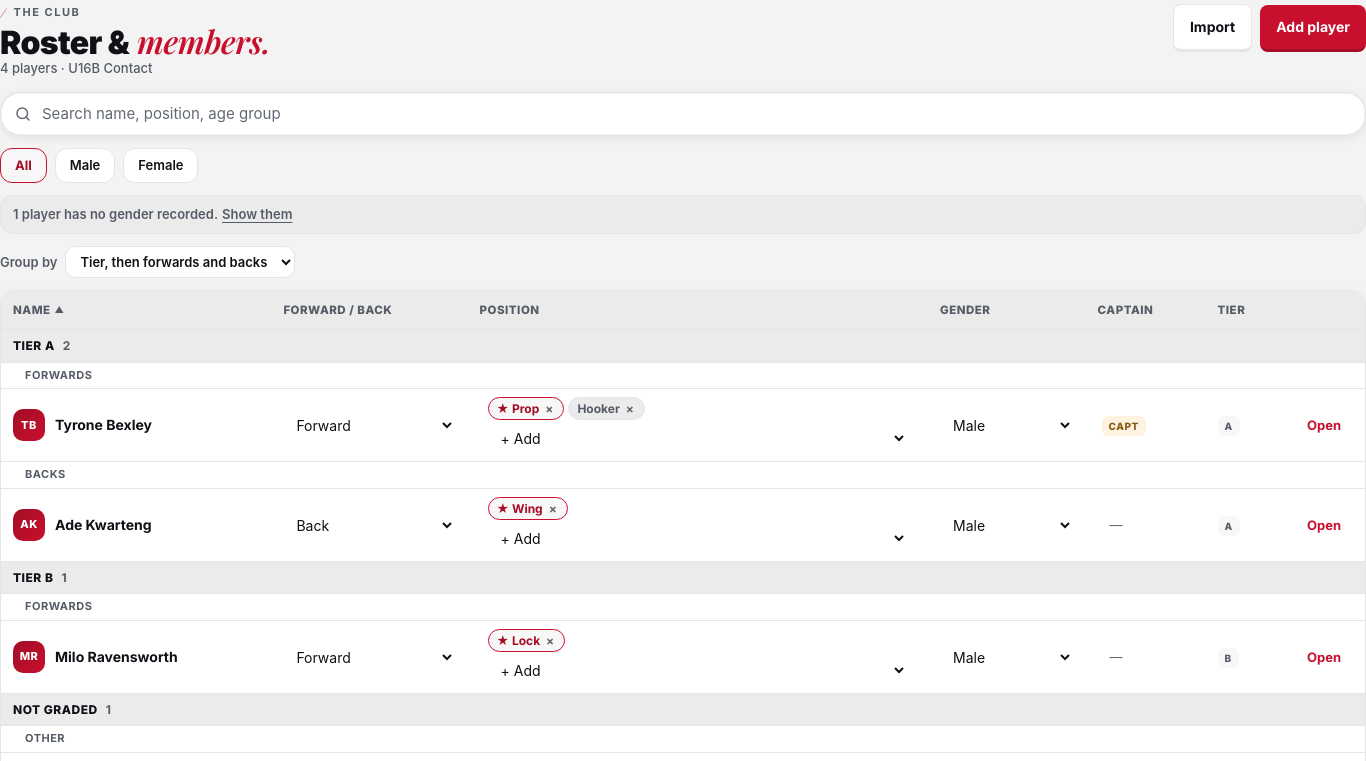
Test case: the gender gap nudges, and the nudge is clickable › ⚠️ CLICKING IT SHOWS EXACTLY THOSE PLAYERS — Jay’s explicit ask
What coordinates should you click on to do the following:
click the button "1 player has no gender recorded.Show them"
I would click on:
 (116, 214)
Its box is [0,195,1365,234].
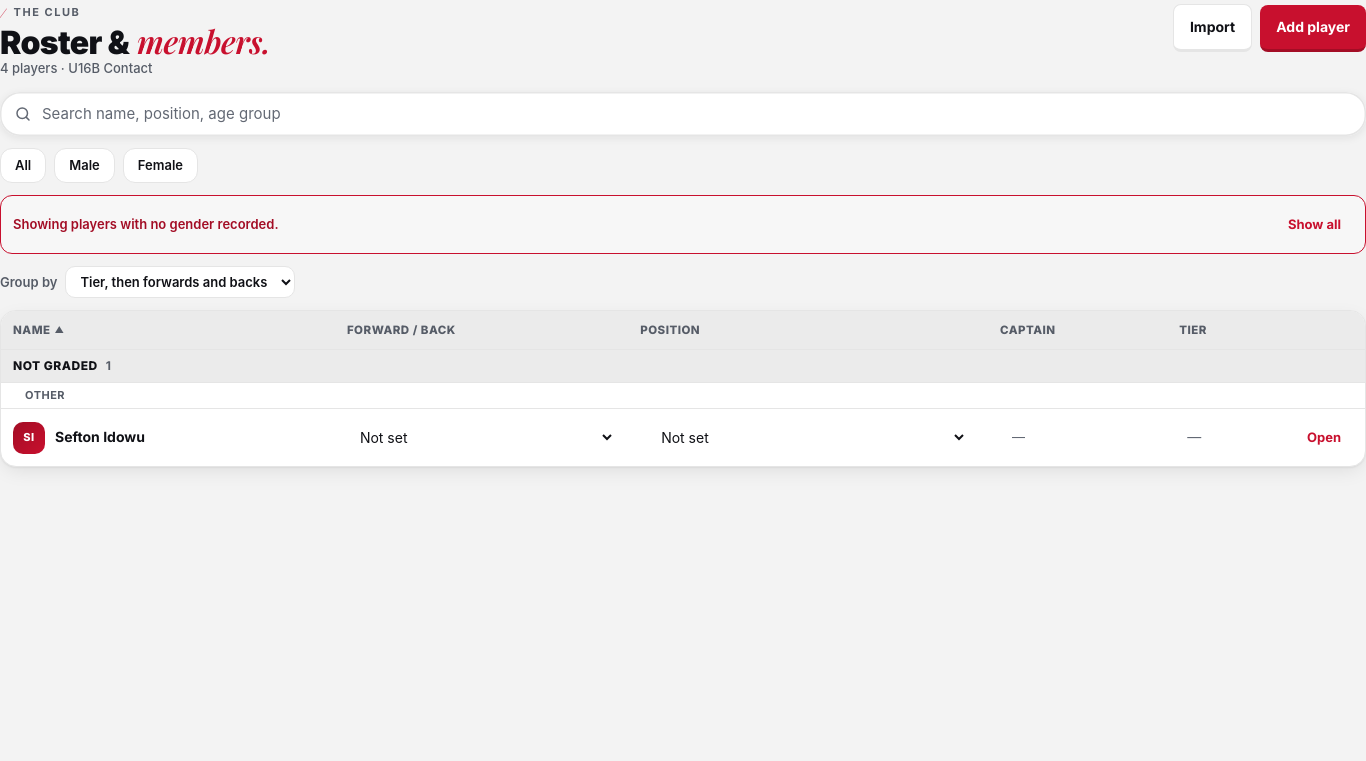
Expected: the elements with test id "table-player-name" read "Sefton Idowu", in this order, [55,426,145,449]
